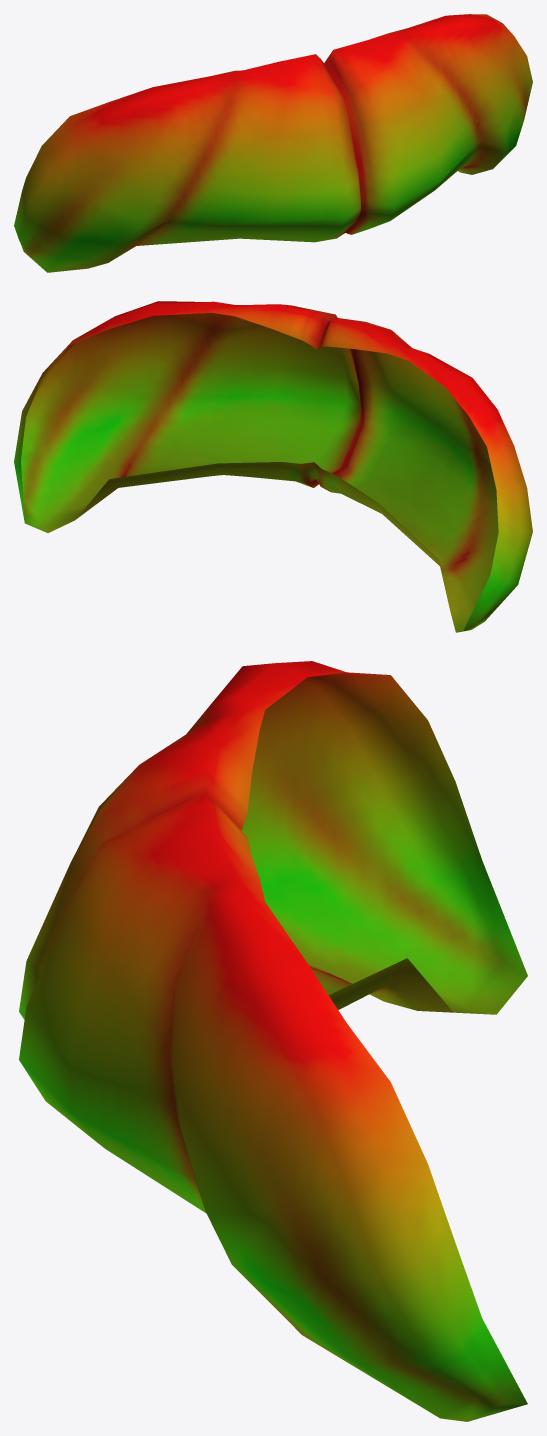
File: LowerFace_Mustashe.obj
3 renders of one model, top to bottom at view 1: azimuth 30°, elevation 25°; view 2: azimuth 150°, elevation 25°; view 3: azimuth 270°, elevation 25°, orthographic. The views are drawn at different scales.
Parts seen in each view (by area): view 1: LowerFace_Mustashe_0; view 2: LowerFace_Mustashe_0; view 3: LowerFace_Mustashe_0.
Part boxes in pixels (box(x1,y1,x2,y2)): LowerFace_Mustashe_0: box(14, 14, 532, 272); LowerFace_Mustashe_0: box(14, 301, 532, 632); LowerFace_Mustashe_0: box(19, 661, 527, 1421).
Bounding box in the file's own units: 0.0608 × 0.0249 × 0.0266.
1 material, 1 textured.
